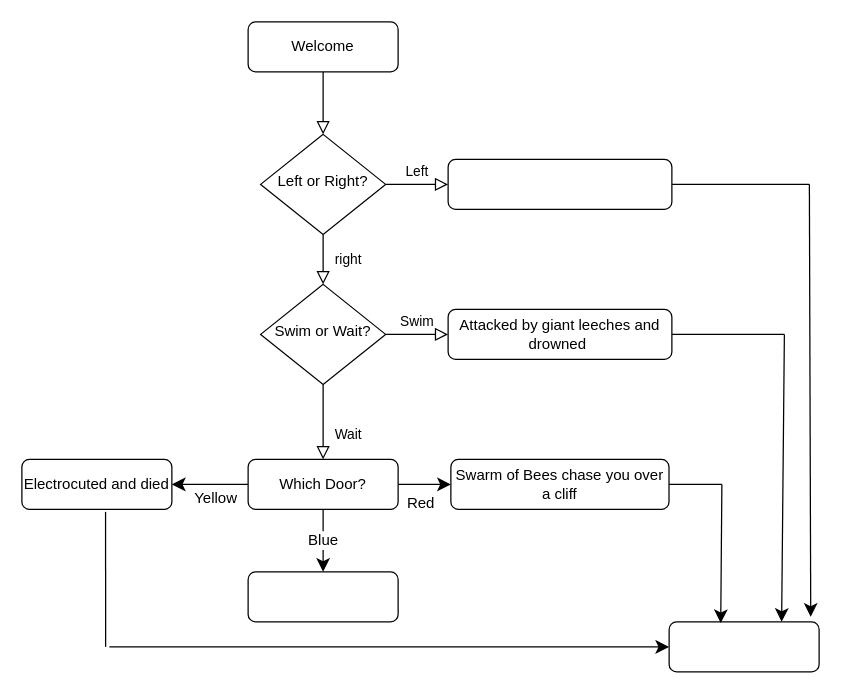
This 841x694 diagram has some shape labels left out. The centre of each missing label's shape, as x and y in pixels:
Lose! Game Over!: [743,646]
Walked into a Cave of bears and was eaten!: [559,183]
Win!: [322,596]
